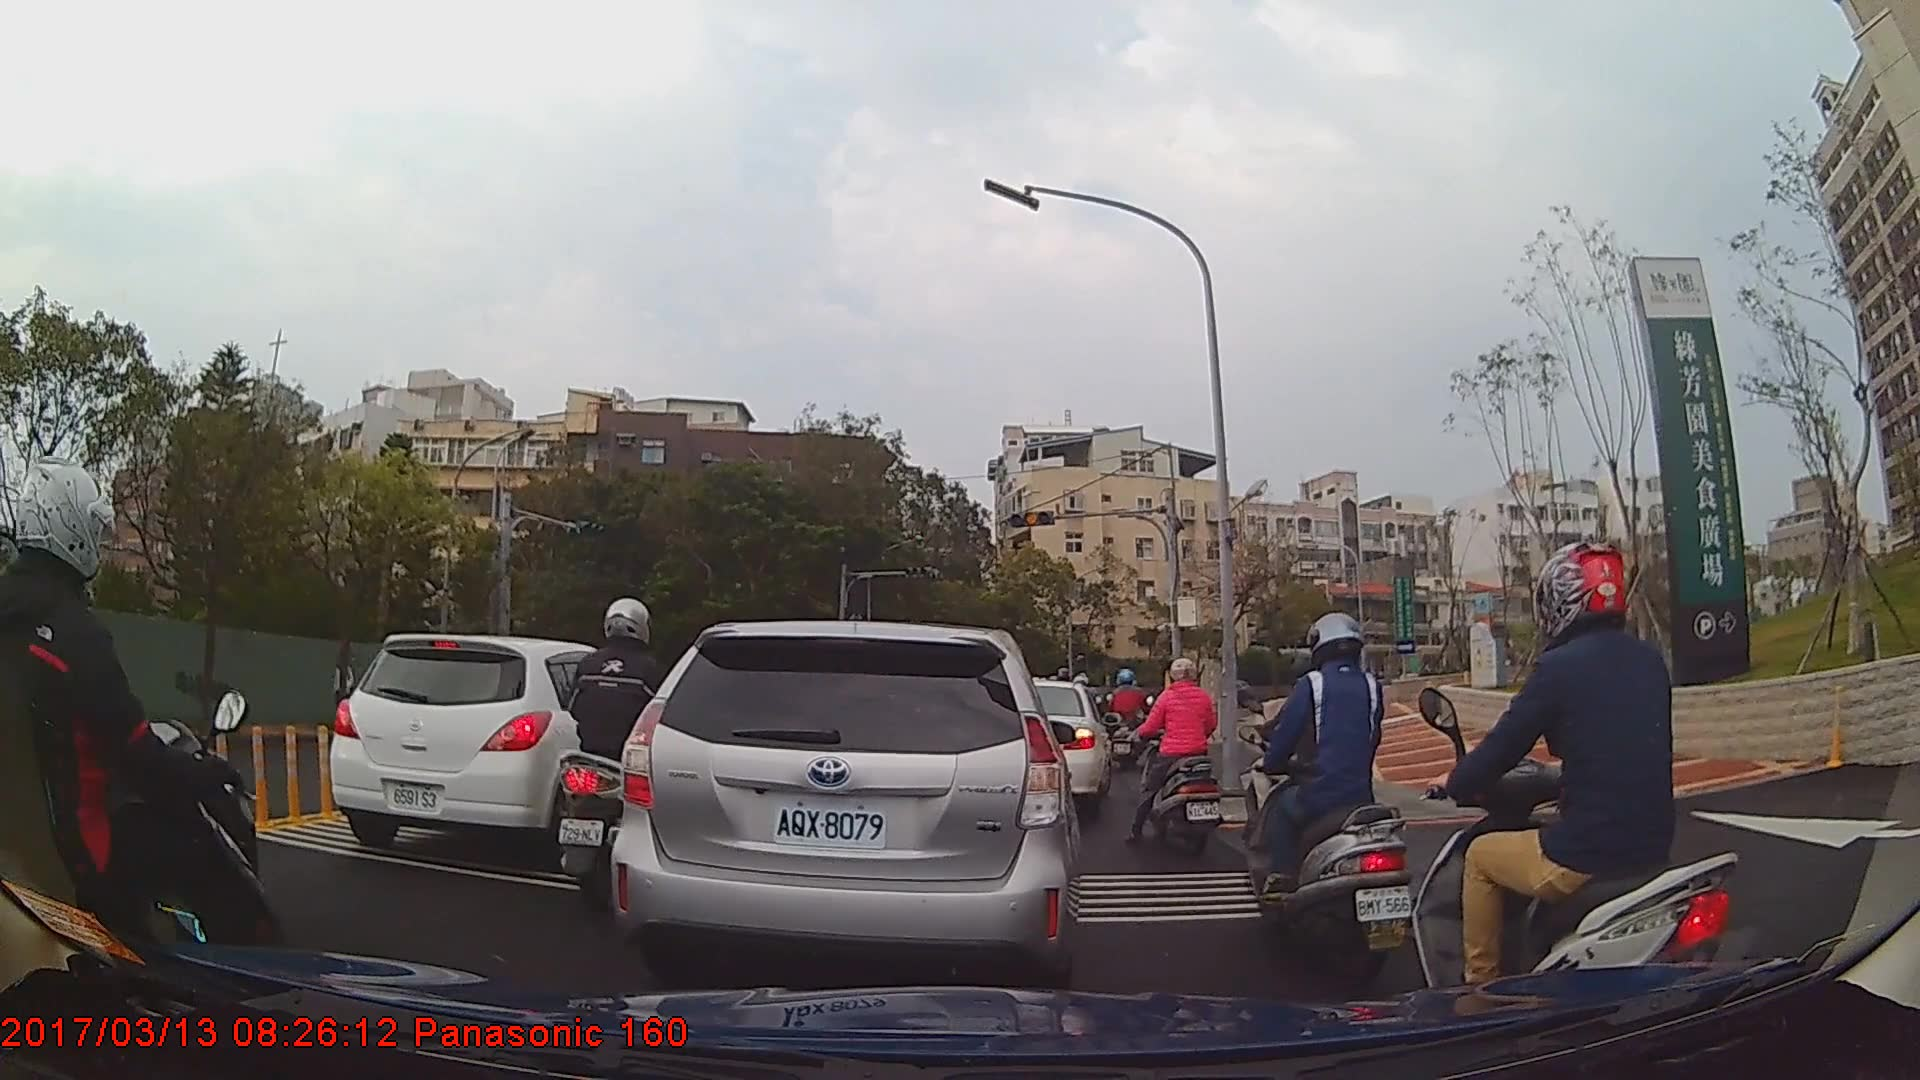pedestrian: (332, 654, 359, 730)
rider: (1421, 529, 1753, 1063), (1, 464, 290, 1049), (1243, 615, 1414, 999), (552, 595, 696, 912), (1131, 658, 1227, 859), (1104, 666, 1149, 768)
vehicle: (608, 619, 1081, 1025), (329, 631, 659, 864), (1004, 677, 1111, 814)
